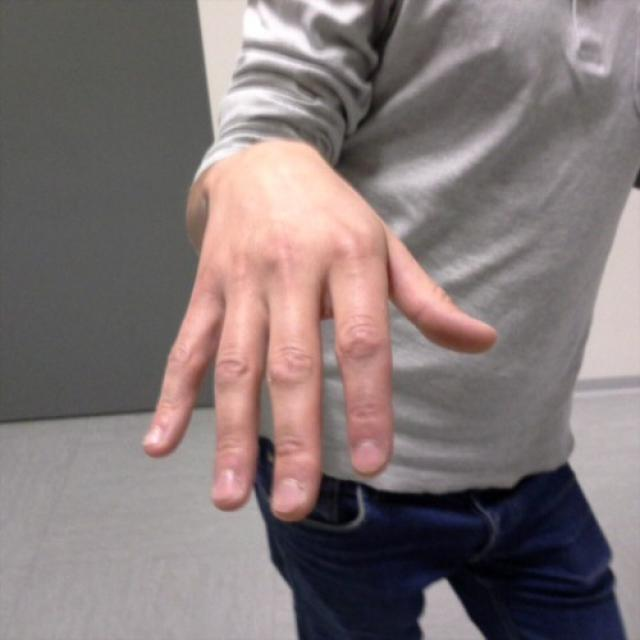paper: (145, 154, 500, 518)
